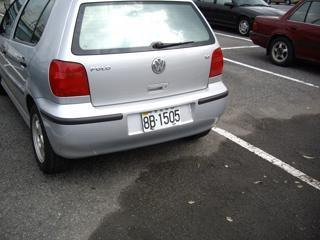plate: (138, 107, 183, 131)
